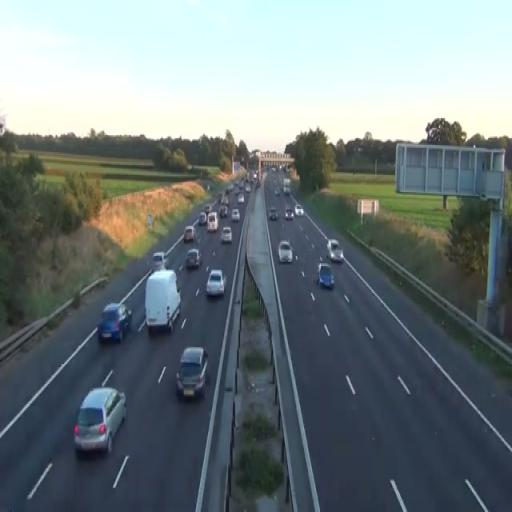Car: (73, 387, 127, 456), (175, 346, 209, 400), (97, 302, 132, 345), (205, 269, 226, 298), (316, 262, 335, 290), (326, 239, 344, 263), (185, 248, 201, 270), (278, 240, 293, 263), (208, 212, 218, 232), (184, 226, 196, 242), (222, 225, 232, 243), (269, 206, 278, 221), (231, 208, 240, 222)
Truck: (145, 269, 181, 334)
